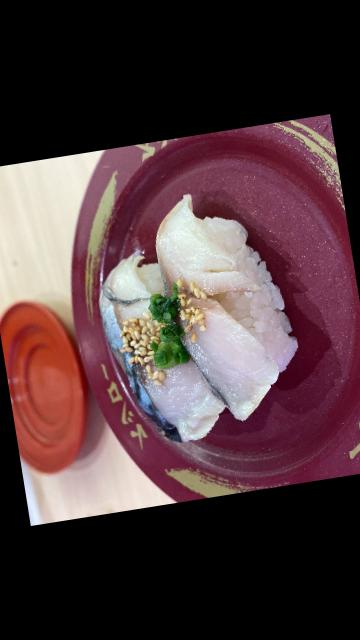janred: (60, 114, 360, 512)
